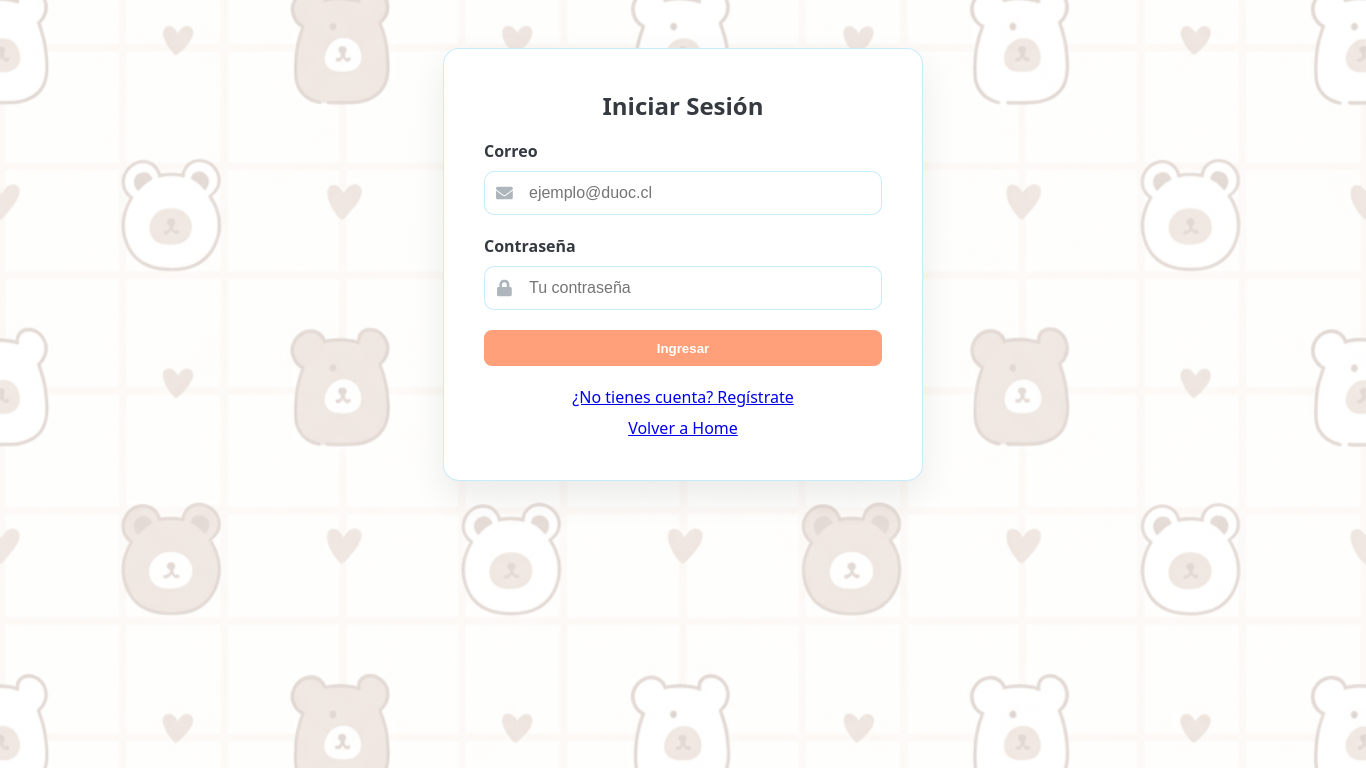
Componente: LoginForm (inicio.jsx) › debería mostrar "Ingresando..." y deshabilitar el botón durante la carga
Type "test@test.com" into the field labelled "Correo" at x=683, y=193, box [484,171,882,215]
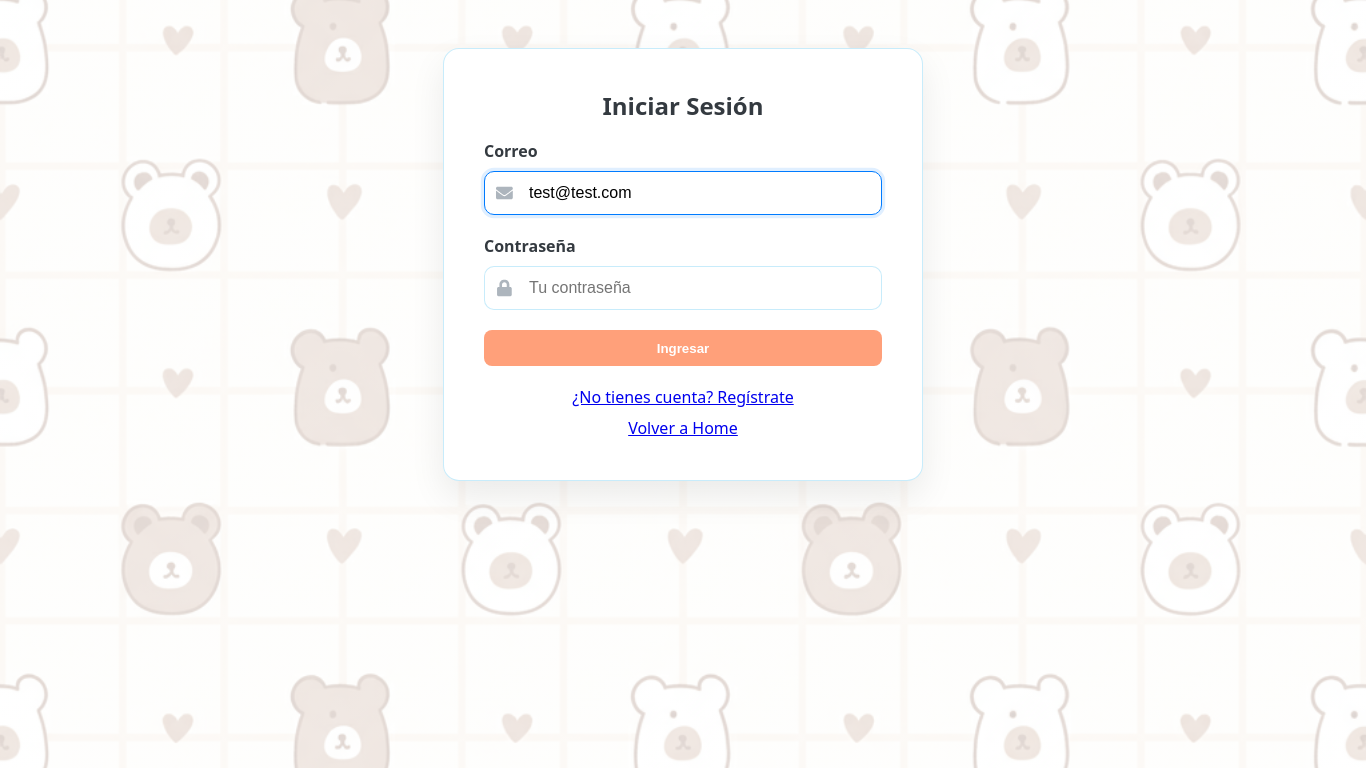
Type "pass123" into the password field labelled "Contraseña" at x=683, y=288, box [484,266,882,310]
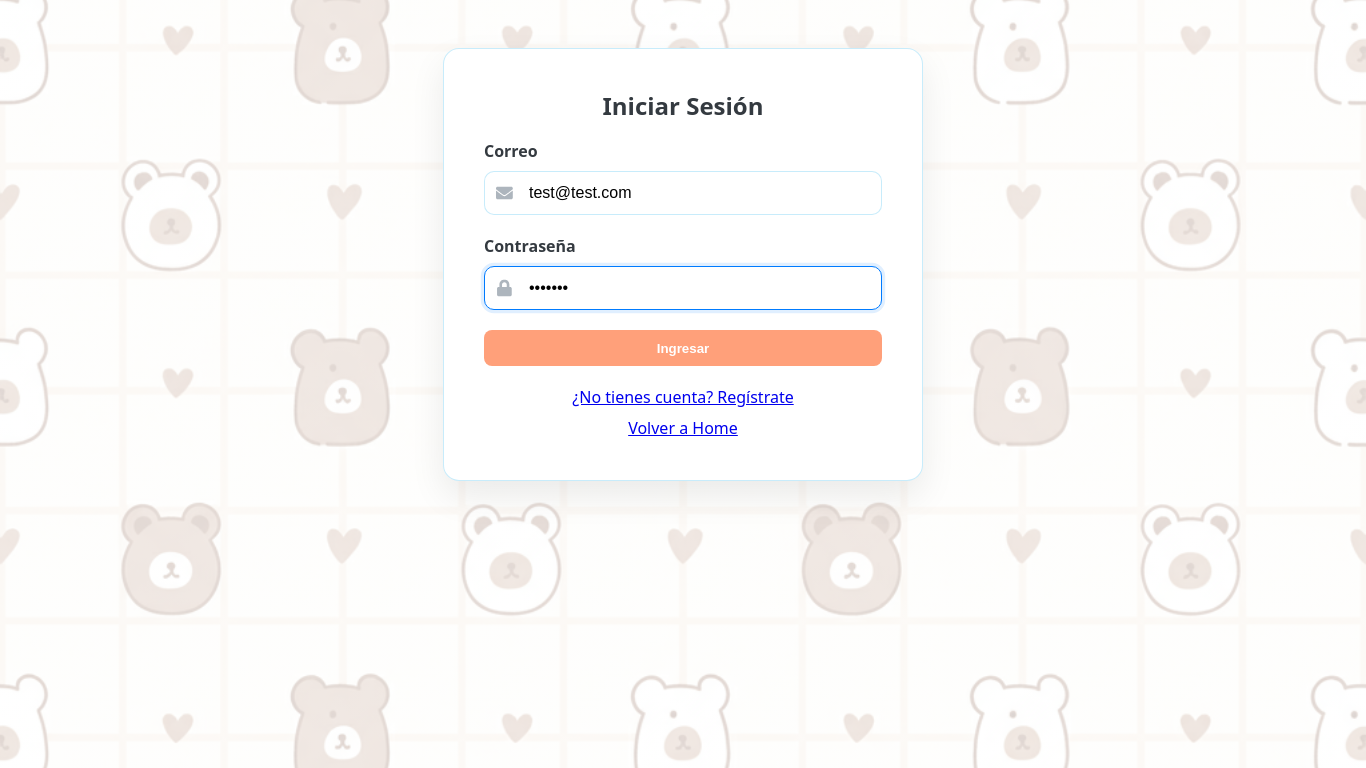
Click the button "Ingresar" at x=683, y=348, box [484,330,882,366]
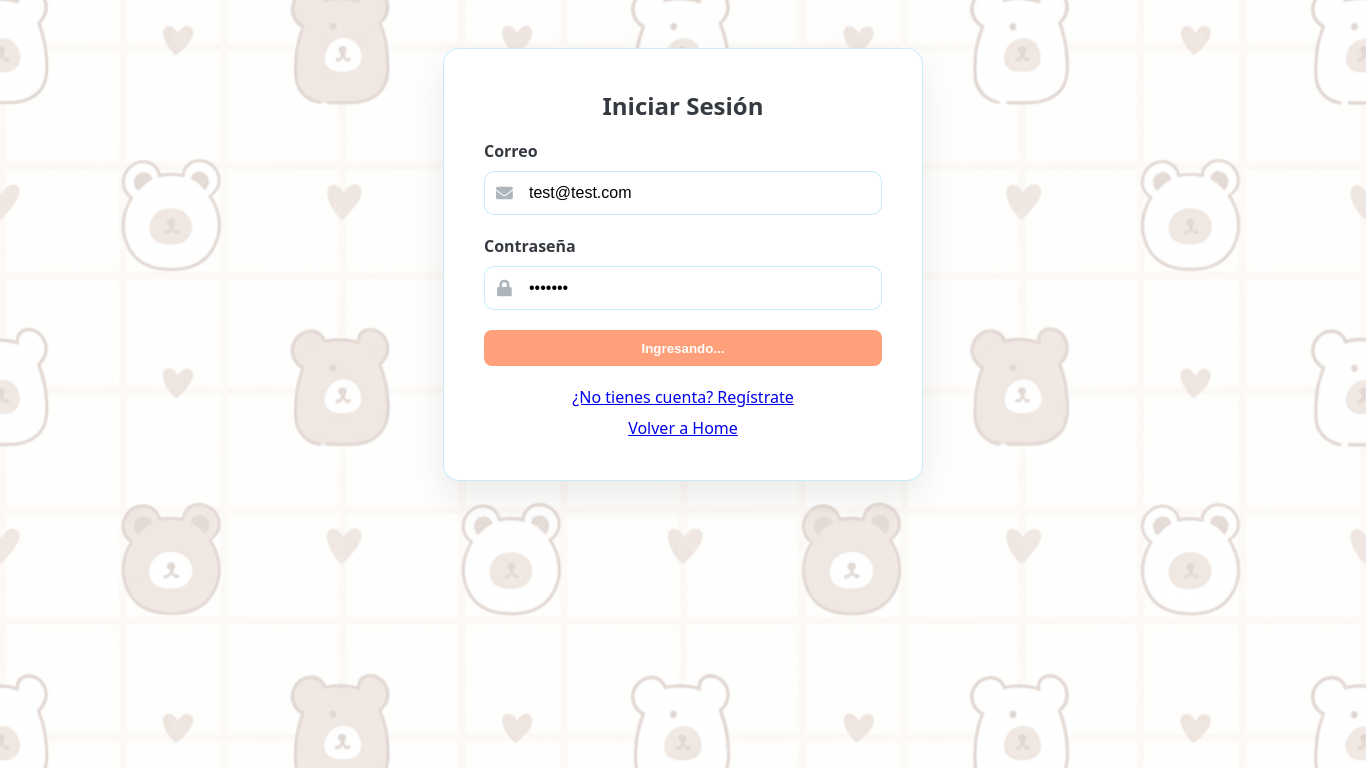
Result: the button named "ingresar" is disabled at [484,330,882,366]
